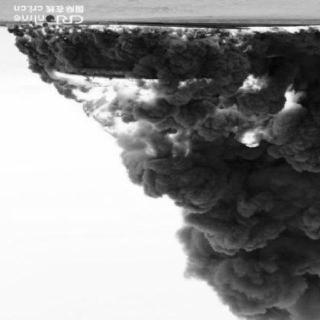Fire: (7, 24, 317, 36)
Smoke: (153, 92, 317, 318)
